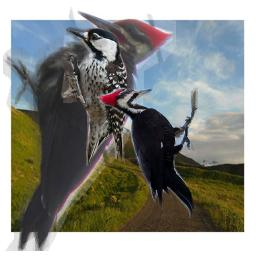Woodpecker: (3, 7, 176, 251), (98, 87, 198, 219), (60, 27, 127, 166)
